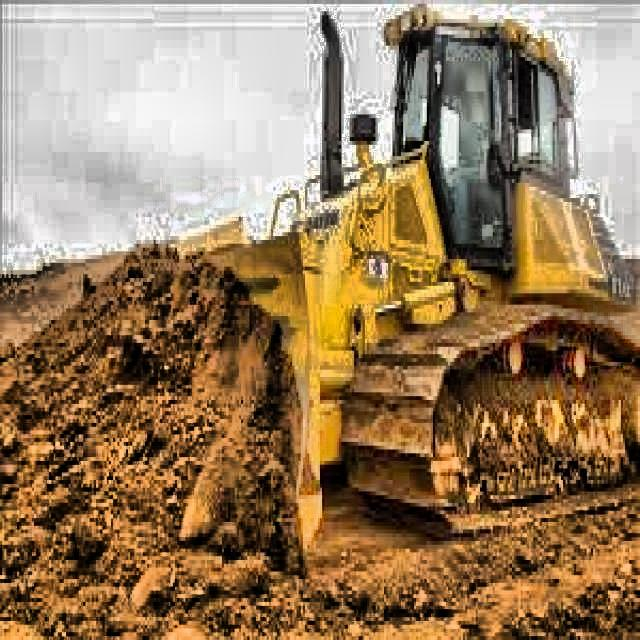bull_dozer/loader/grader: (181, 1, 640, 559)
person: (453, 109, 492, 230)
